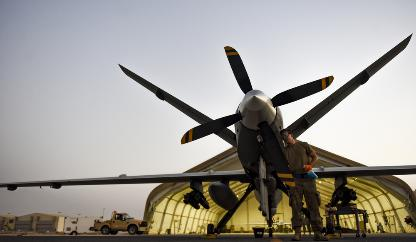MQ9: (0, 32, 416, 234), (230, 213, 326, 231)
